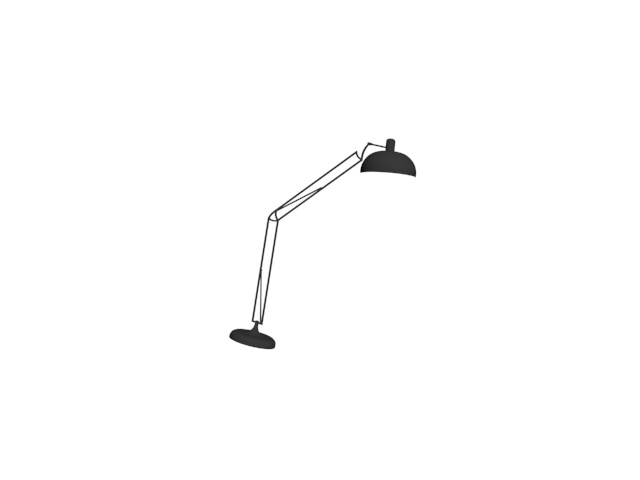desk_lamp: (225, 137, 423, 352)
